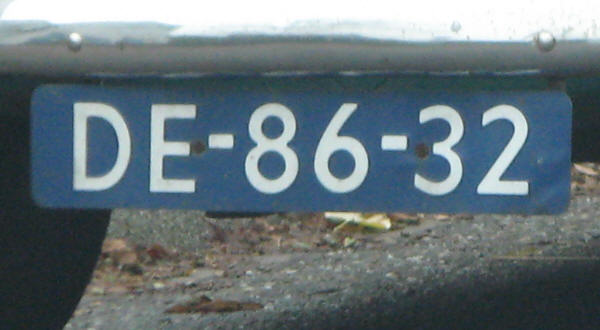license_plate: (30, 82, 572, 213)
